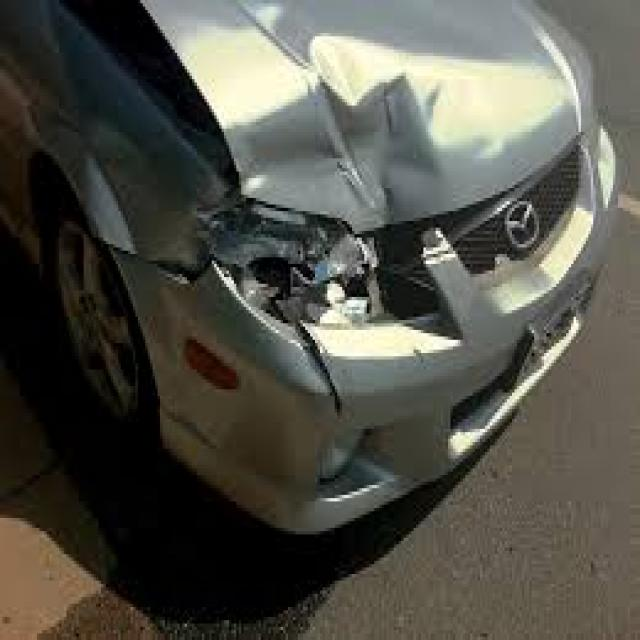minor: (52, 0, 467, 372)
